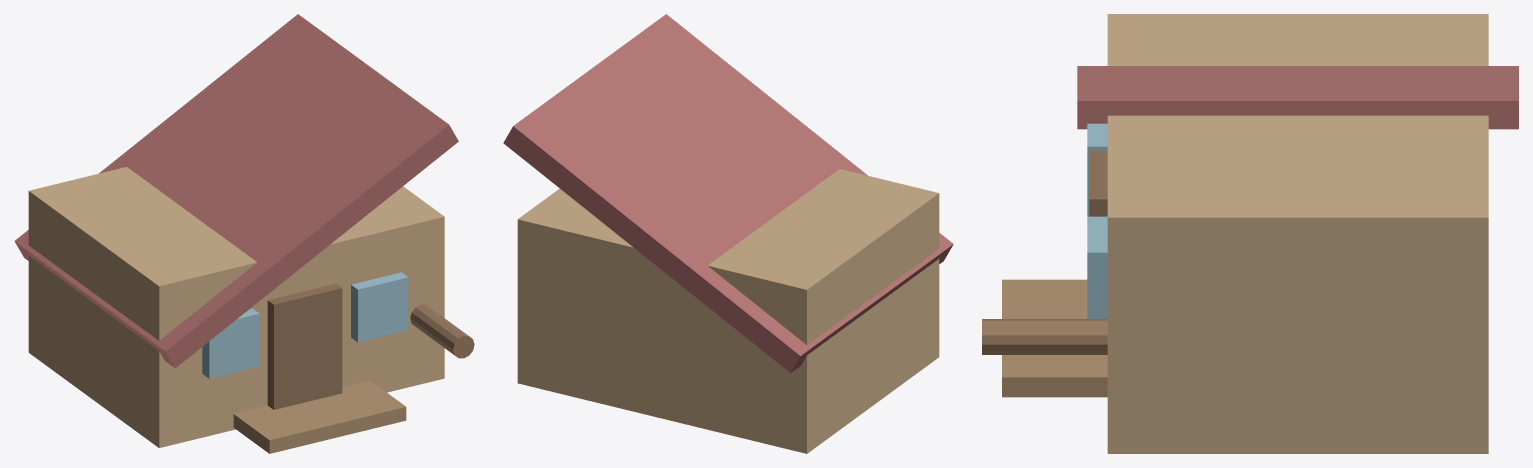
Rendered from farmhouse.glb.
3 renders of one model, left to right at view 1: azimuth 30°, elevation 25°; view 2: azimuth 150°, elevation 25°; view 3: azimuth 270°, elevation 25°, orthographic. The views are drawn at different scales.
Parts seen in each view (by area): view 1: farmhouse_0, farmhouse_1, farmhouse_2, farmhouse_6, farmhouse_4, farmhouse_3, farmhouse_5; view 2: farmhouse_0, farmhouse_1; view 3: farmhouse_0, farmhouse_1, farmhouse_6, farmhouse_5, farmhouse_4, farmhouse_2, farmhouse_3.
Boxes of the visible parts, left/top/right/bottom form: farmhouse_0: left=28, top=167, right=444, bottom=447; farmhouse_1: left=14, top=14, right=458, bottom=368; farmhouse_2: left=267, top=283, right=342, bottom=409; farmhouse_6: left=233, top=380, right=406, bottom=453; farmhouse_4: left=351, top=272, right=408, bottom=342; farmhouse_3: left=202, top=308, right=259, bottom=378; farmhouse_5: left=410, top=304, right=474, bottom=358; farmhouse_0: left=517, top=169, right=939, bottom=453; farmhouse_1: left=503, top=14, right=953, bottom=372; farmhouse_0: left=1107, top=14, right=1488, bottom=453; farmhouse_1: left=1077, top=66, right=1518, bottom=129; farmhouse_6: left=1002, top=279, right=1107, bottom=397; farmhouse_5: left=982, top=319, right=1107, bottom=354; farmhouse_4: left=1087, top=216, right=1107, bottom=318; farmhouse_2: left=1089, top=150, right=1107, bottom=216; farmhouse_3: left=1087, top=123, right=1107, bottom=216.
Bounding box in the file's own units: 4.93 × 4.27 × 5.35.
